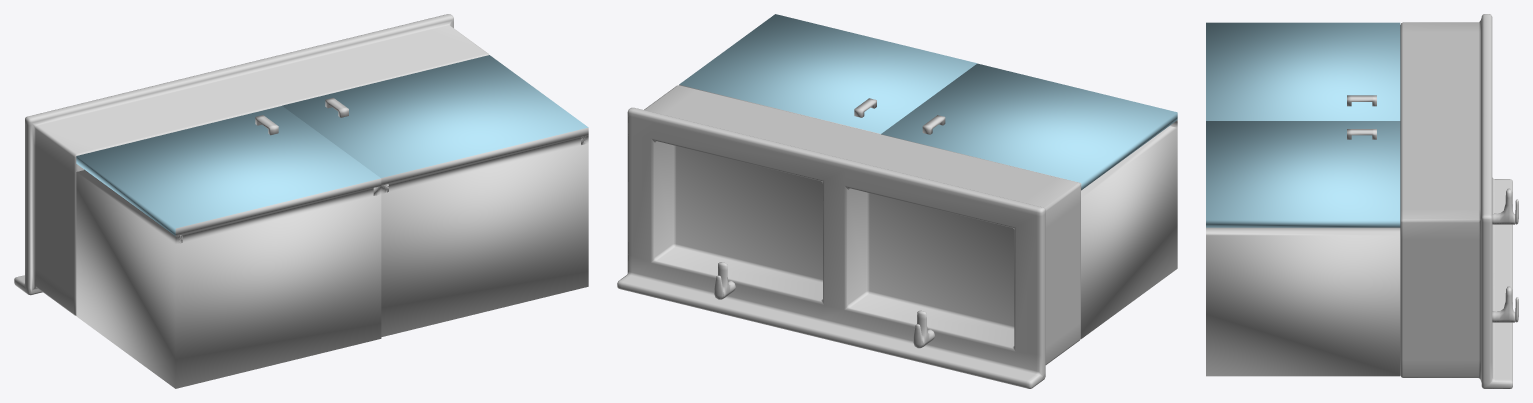
The picture shows the model from 3 angles, left to right: view 1: azimuth 30°, elevation 25°; view 2: azimuth 150°, elevation 25°; view 3: azimuth 270°, elevation 25°; orthographic projection. The views are drawn at different scales.
Parts seen in each view (by area): view 1: Cube; view 2: Cube; view 3: Cube.
Boxes of the visible parts, box(x1,y1,x2,y2) form: Cube: box(14, 14, 588, 388); Cube: box(617, 14, 1177, 388); Cube: box(1206, 14, 1518, 388).
Size of the model in its own units: 154 by 61.09 by 99.77.
